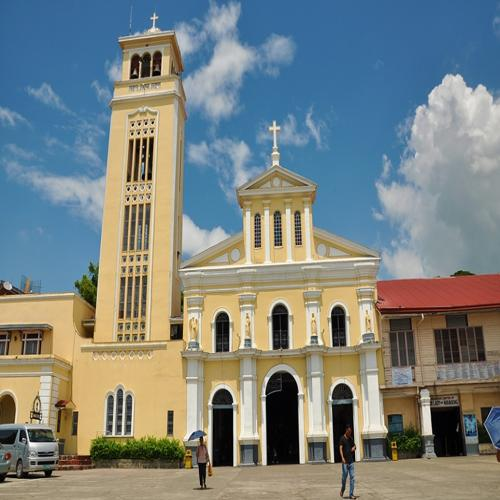Manaoag Church: (83, 8, 388, 467)
